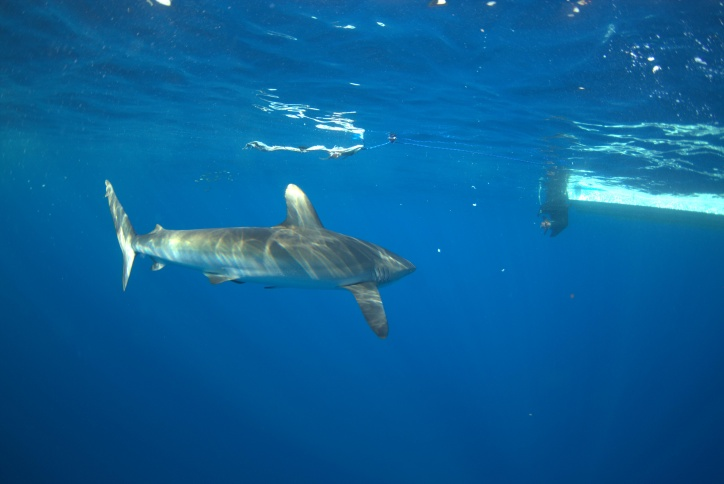Sedoso: (88, 171, 430, 348)
